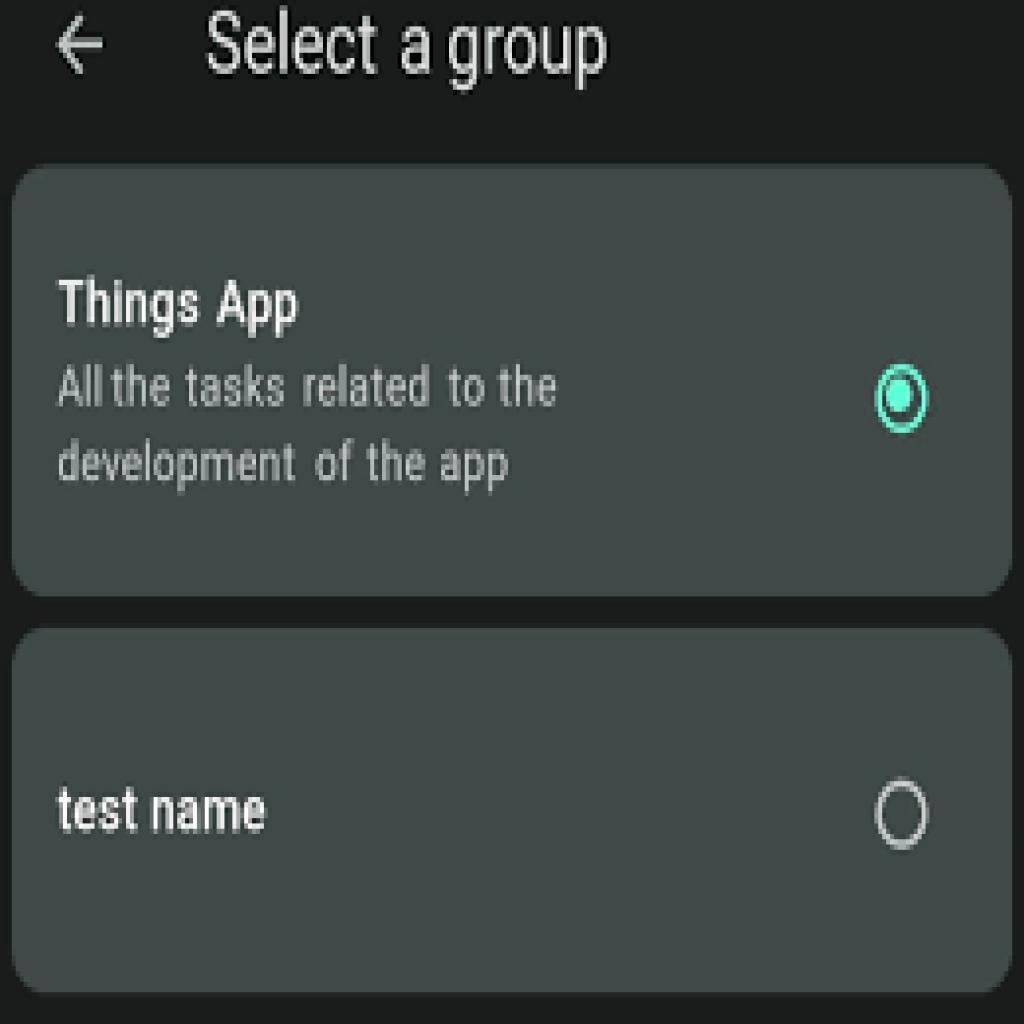icon: (54, 14, 106, 79)
label: (206, 10, 607, 98), (52, 275, 304, 344), (54, 787, 271, 842)
radio: (874, 362, 930, 438), (874, 780, 933, 851)
